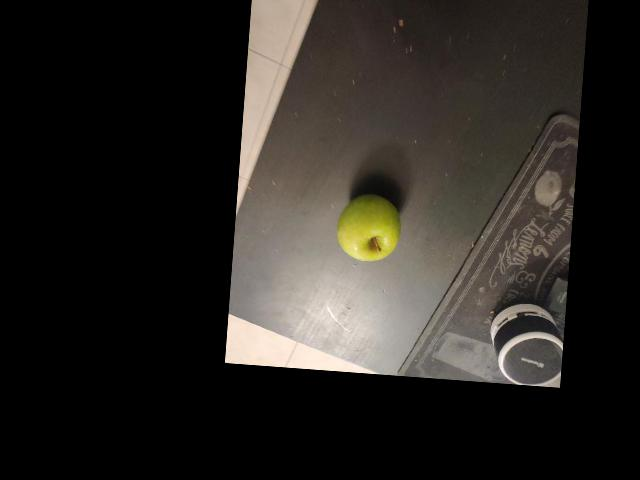apple: (335, 183, 411, 267)
